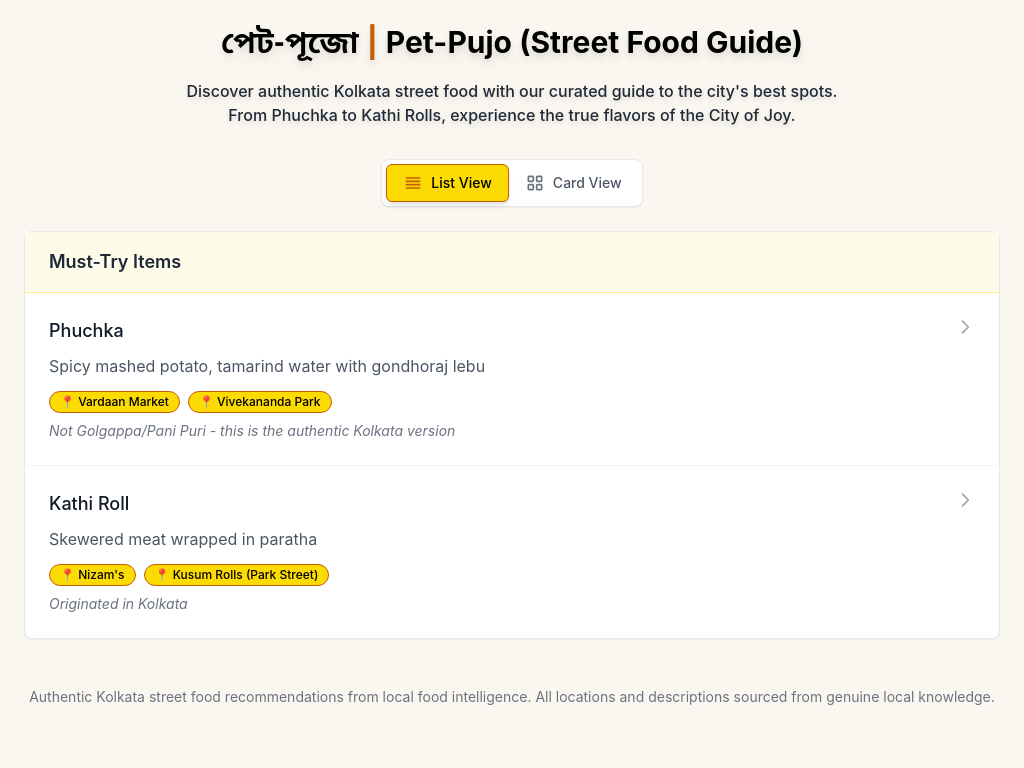
Test case: FoodMap › switches to card view and shows selected food when food is selected from list
Click on a food item in list view
Click the button "Phuchka" at (512, 379), box [25,293,999,465]
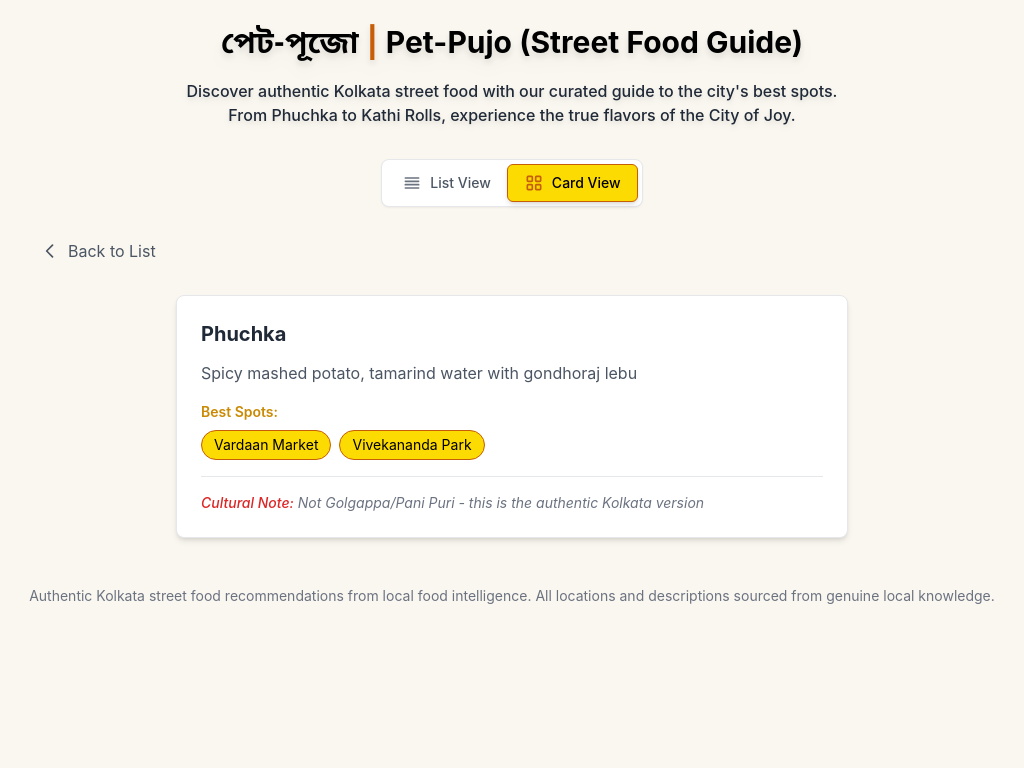
expect the text "Back to List" is shown: met, box [68,239,156,263]
